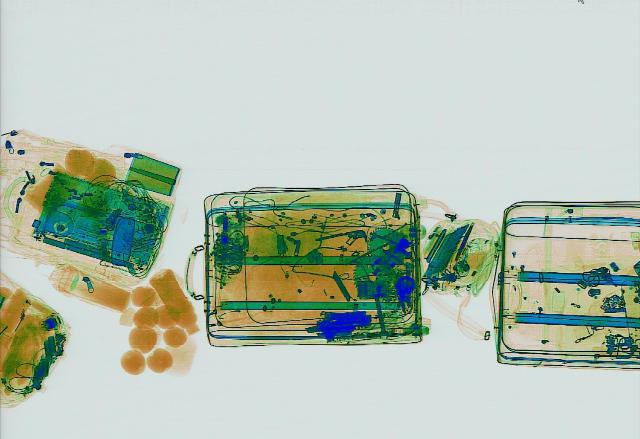Wrench: (370, 288, 390, 339)
